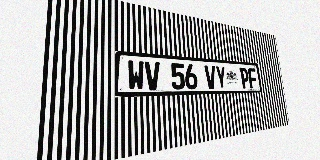5: (171, 63, 185, 90)
6: (184, 64, 198, 89)
F: (248, 68, 258, 88)
P: (239, 67, 250, 88)
V: (144, 61, 161, 90), (204, 65, 217, 89)
W: (127, 60, 145, 90)
Y: (215, 66, 227, 89)
